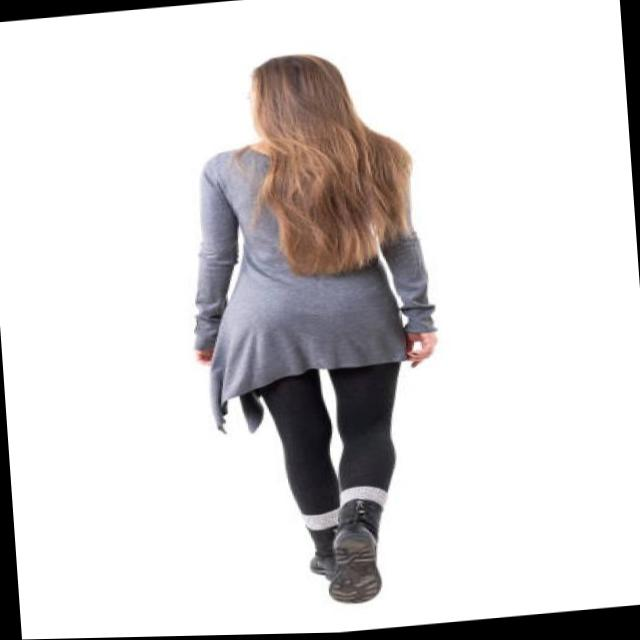no helmet: (226, 42, 370, 159)
